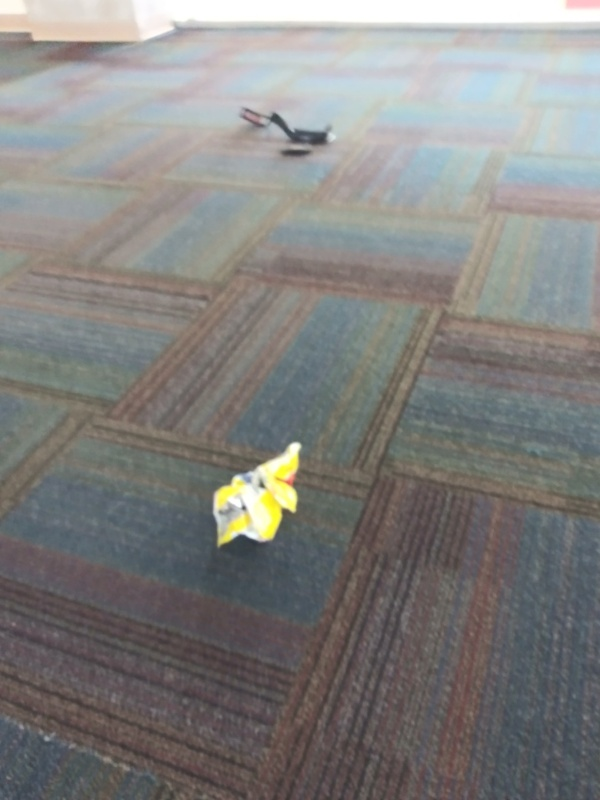bag: (208, 438, 306, 559)
